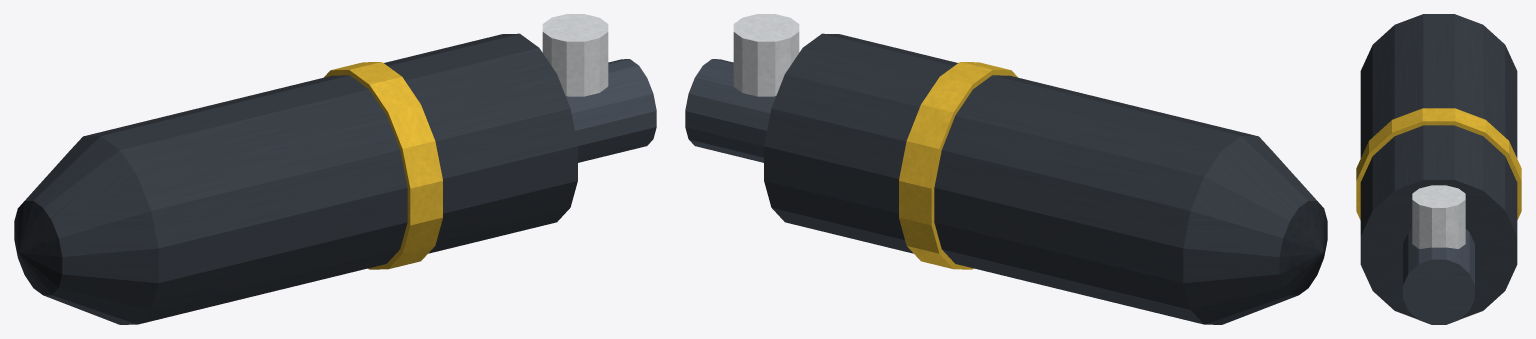
Rendered from tank_hpa_small_v2.glb.
3 renders of one model, left to right at view 1: azimuth 30°, elevation 25°; view 2: azimuth 150°, elevation 25°; view 3: azimuth 270°, elevation 25°, orthographic. The views are drawn at different scales.
Visible parts, largest first — view 1: tank_hpa_small_mesh; view 2: tank_hpa_small_mesh; view 3: tank_hpa_small_mesh.
Part boxes in pixels (x1=…): tank_hpa_small_mesh: x1=14, y1=14, x2=656, y2=324; tank_hpa_small_mesh: x1=685, y1=14, x2=1327, y2=324; tank_hpa_small_mesh: x1=1356, y1=14, x2=1521, y2=324.
Size of the model in its own units: 0.188 by 0.0539 by 0.0539.
Materials: 5 (5 with a texture image).
